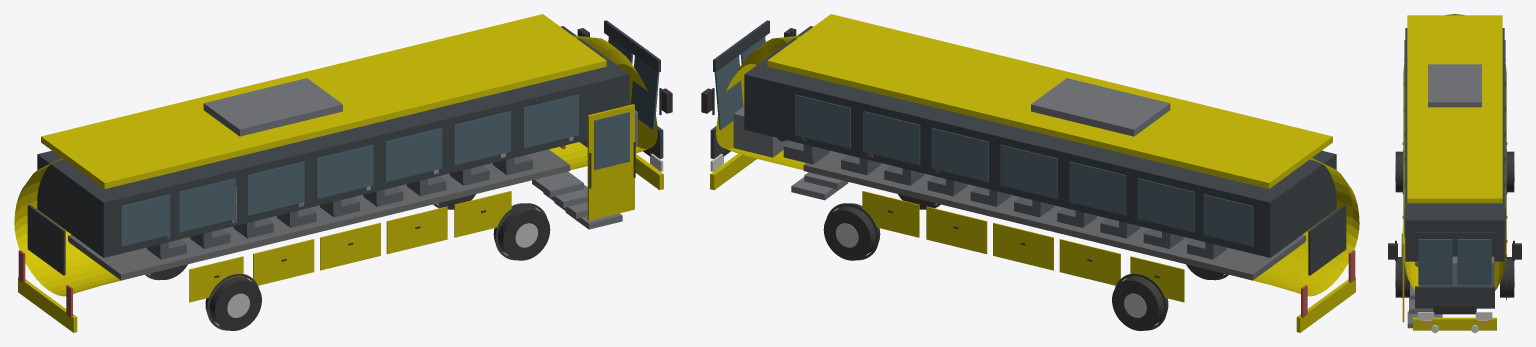
Rendered from bus.glb.
The picture shows the model from 3 angles, left to right: view 1: azimuth 30°, elevation 25°; view 2: azimuth 150°, elevation 25°; view 3: azimuth 270°, elevation 25°; orthographic projection. The views are drawn at different scales.
Visible parts, largest first — view 1: roof_cap, window_belt, interior_floor, body_shell, roof_ac, front_door, side_window_1_1, side_window_1_2, side_window_1_3, side_window_1_4, side_window_1_5, side_window_1_0 (+16 smaller); view 2: roof_cap, window_belt, interior_floor, body_shell, roof_ac, side_window_-1_1, side_window_-1_2, side_window_-1_3, side_window_-1_4, side_window_-1_5, side_window_-1_0, side_window_-1_6 (+15 smaller); view 3: roof_cap, window_belt, roof_ac, front_fascia, front_windshield_-1, front_windshield_1, body_shell, front_bumper, front_eyebrow, front_wheel_-1, front_wheel_1, dashboard (+10 smaller).
Part boxes in pixels (box(x1,y1,x2,y2)): roof_cap: box(41, 14, 606, 188); window_belt: box(37, 26, 629, 257); interior_floor: box(68, 149, 570, 280); body_shell: box(14, 35, 657, 296); roof_ac: box(203, 78, 342, 136); front_door: box(587, 104, 634, 220); side_window_1_1: box(453, 111, 510, 165); side_window_1_2: box(385, 128, 442, 182); side_window_1_3: box(316, 144, 373, 198); side_window_1_4: box(247, 161, 304, 215); side_window_1_5: box(179, 178, 235, 232); side_window_1_0: box(523, 94, 578, 148); roof_cap: box(767, 14, 1332, 188); window_belt: box(744, 26, 1336, 257); interior_floor: box(803, 150, 1305, 280); body_shell: box(716, 35, 1359, 296); roof_ac: box(1031, 78, 1170, 136); side_window_-1_1: box(863, 111, 920, 165); side_window_-1_2: box(931, 128, 988, 182); side_window_-1_3: box(1000, 144, 1057, 198); side_window_-1_4: box(1069, 161, 1126, 215); side_window_-1_5: box(1138, 178, 1194, 232); side_window_-1_0: box(795, 94, 850, 148); side_window_-1_6: box(1203, 194, 1253, 246); roof_cap: box(1407, 15, 1502, 203); window_belt: box(1405, 28, 1504, 261); roof_ac: box(1428, 64, 1481, 107); front_fascia: box(1415, 286, 1494, 308); front_windshield_-1: box(1457, 239, 1491, 284); front_windshield_1: box(1418, 239, 1452, 284); body_shell: box(1403, 14, 1506, 290); front_bumper: box(1413, 317, 1496, 330); front_eyebrow: box(1414, 232, 1495, 242); front_wheel_-1: box(1500, 257, 1514, 297); front_wheel_1: box(1395, 257, 1409, 297); dashboard: box(1419, 256, 1494, 286).
Size of the model in its own units: 12.36 by 3.63 by 3.22.
